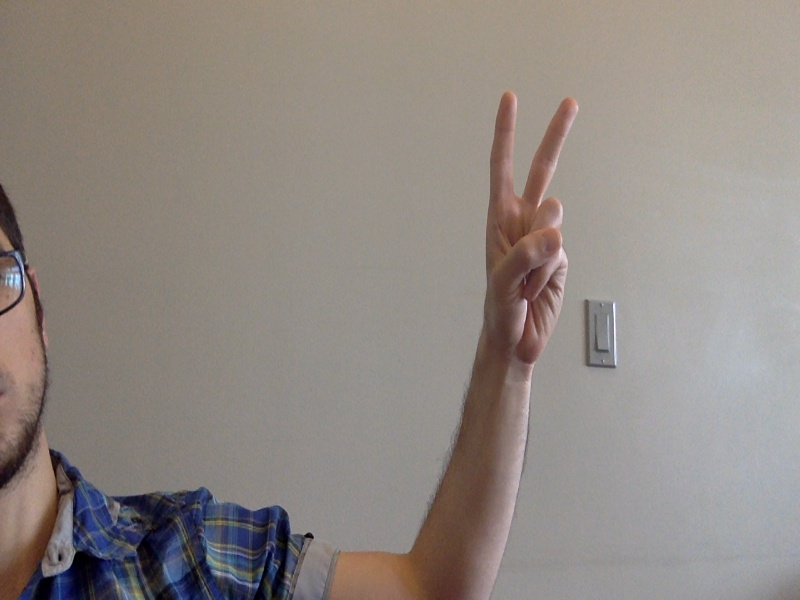2-hand: (484, 90, 580, 363)
